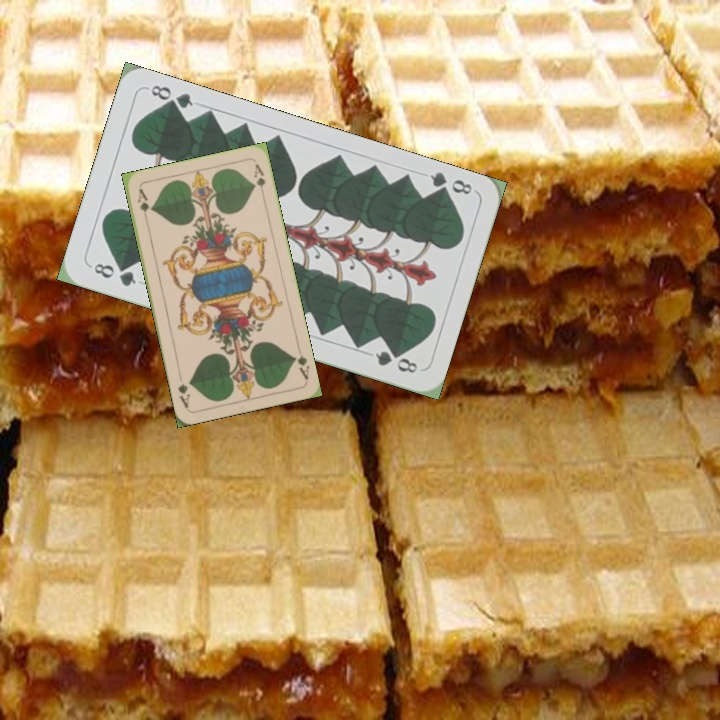G8: (425, 168, 475, 200), (86, 259, 139, 289)
GA: (134, 185, 152, 225), (289, 351, 312, 382)
